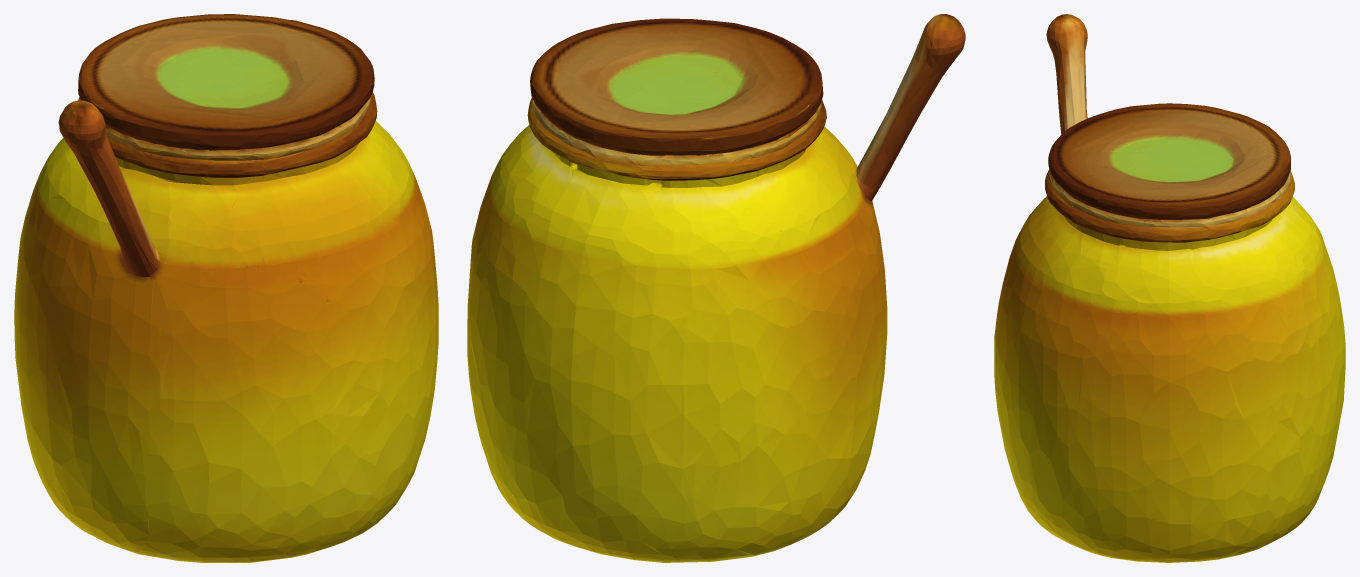
Rendered from honey.glb.
3 views of the same model, side by side, from view 1: azimuth 30°, elevation 25°; view 2: azimuth 150°, elevation 25°; view 3: azimuth 270°, elevation 25° (orthographic). The views are drawn at different scales.
Visible parts, largest first — view 1: world; view 2: world; view 3: world.
Boxes of the visible parts, x1,y1,x2,y2 form: world: (14, 14, 438, 562); world: (467, 14, 965, 562); world: (994, 14, 1345, 562).
Bounding box in the file's own units: 0.8742 × 1 × 0.7822.
1 material, 1 textured.
